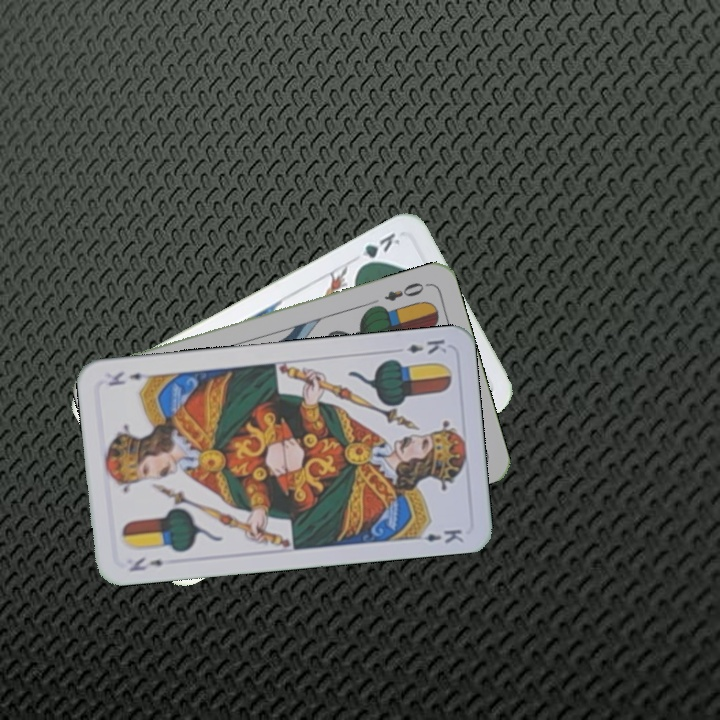EK: (403, 335, 449, 357), (125, 553, 166, 574)
EO: (380, 278, 431, 304)
GK: (353, 228, 403, 271)
